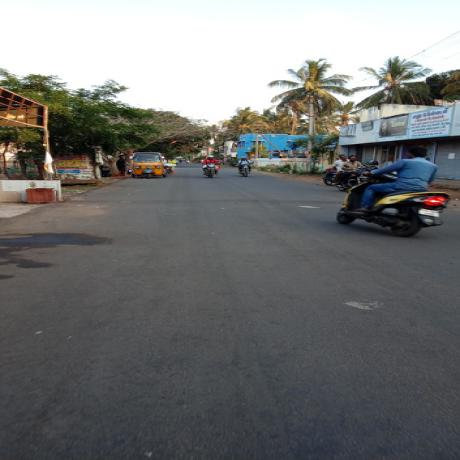Speed Bump: (61, 196, 347, 205)
